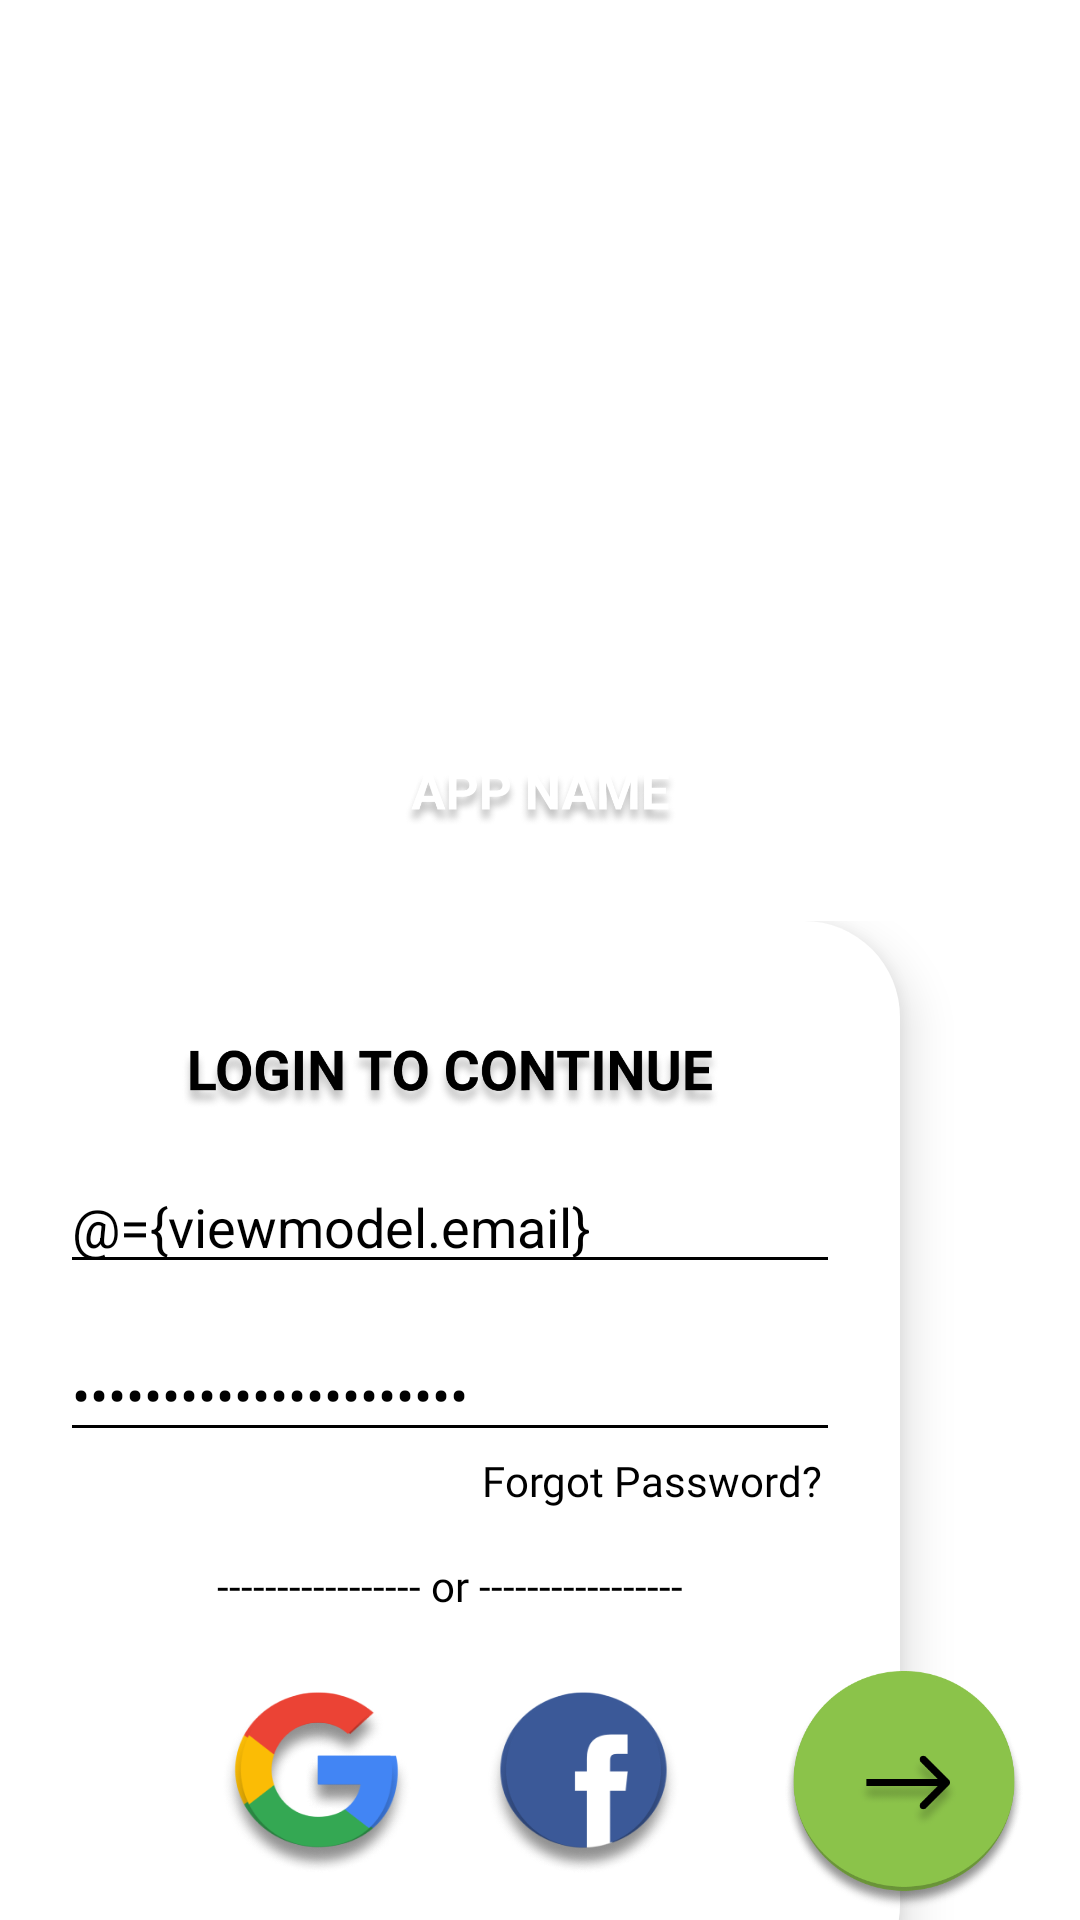

Where to tap for icons on this 1080 × 1920 app screen, as (x,y):
signIn button: (904,1791)
